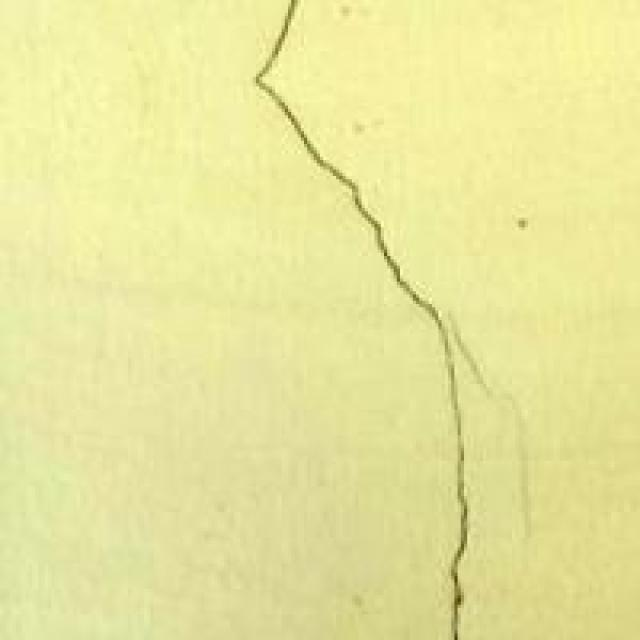Crack: (217, 0, 518, 637)
